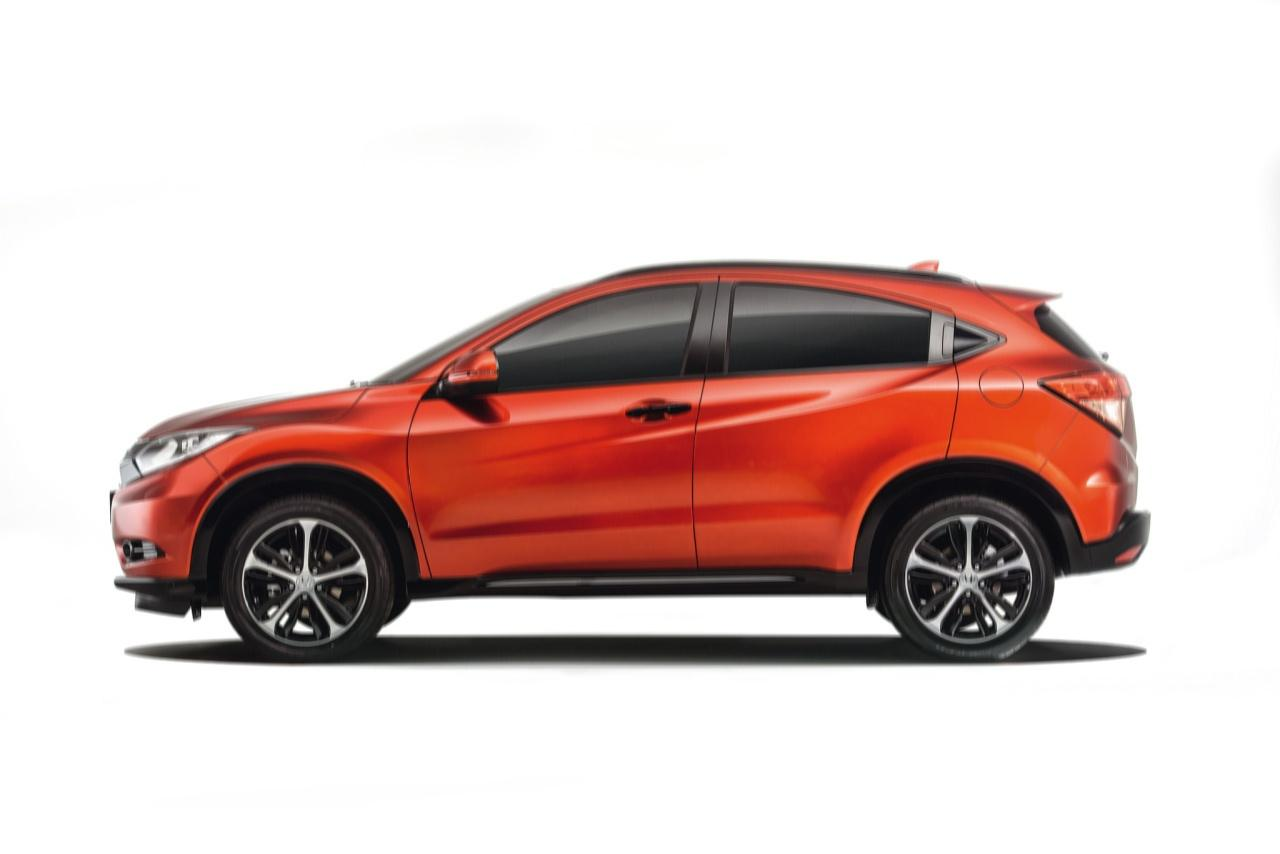Car hood: (134, 379, 362, 436)
Fender - -F-L-: (197, 379, 432, 603)
Fender - -R-L-: (930, 272, 1102, 493)
Front bumper: (105, 457, 234, 621)
Headlight - -L-: (108, 422, 247, 488)
Passenger-s door - -F-L-: (402, 254, 726, 612)
Passenger-s door - -R-L-: (687, 249, 962, 615)
Rear bumper: (1023, 410, 1154, 578)
Rear light - -L-: (1036, 373, 1131, 442)
Side bumper - -L-: (400, 547, 876, 627)
Side mirror - -L-: (437, 347, 504, 406)
